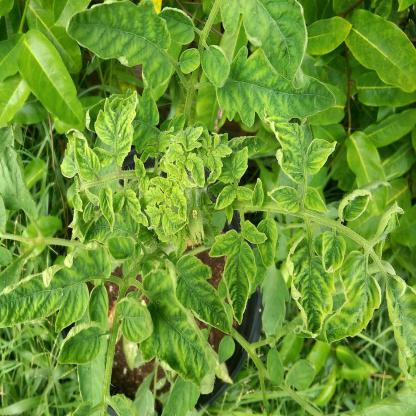tomato leaf yellow virus: (0, 231, 116, 338), (127, 256, 214, 385), (66, 1, 176, 100), (211, 54, 342, 126), (14, 27, 89, 137), (202, 217, 274, 328), (341, 1, 415, 106), (319, 246, 380, 367), (237, 1, 311, 88), (346, 130, 398, 242), (286, 229, 332, 346), (170, 250, 234, 329), (268, 112, 321, 190), (92, 92, 140, 166), (111, 285, 156, 352), (337, 187, 374, 224), (268, 180, 302, 216), (125, 190, 150, 226), (98, 184, 117, 231), (160, 208, 189, 237), (186, 151, 207, 191), (212, 184, 239, 211), (251, 175, 265, 213)
